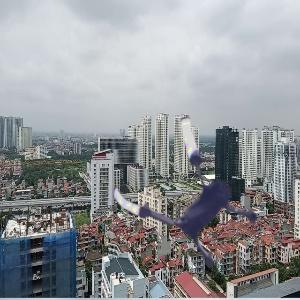drone: (112, 111, 283, 282)
